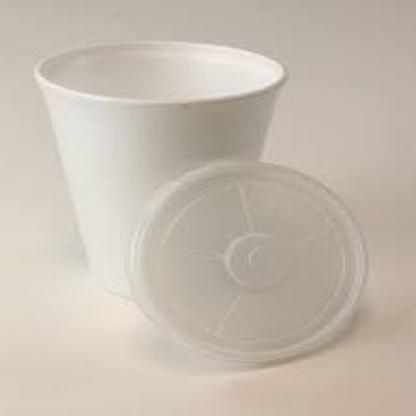trash: (35, 42, 366, 364), (35, 42, 283, 295), (131, 161, 366, 364)
